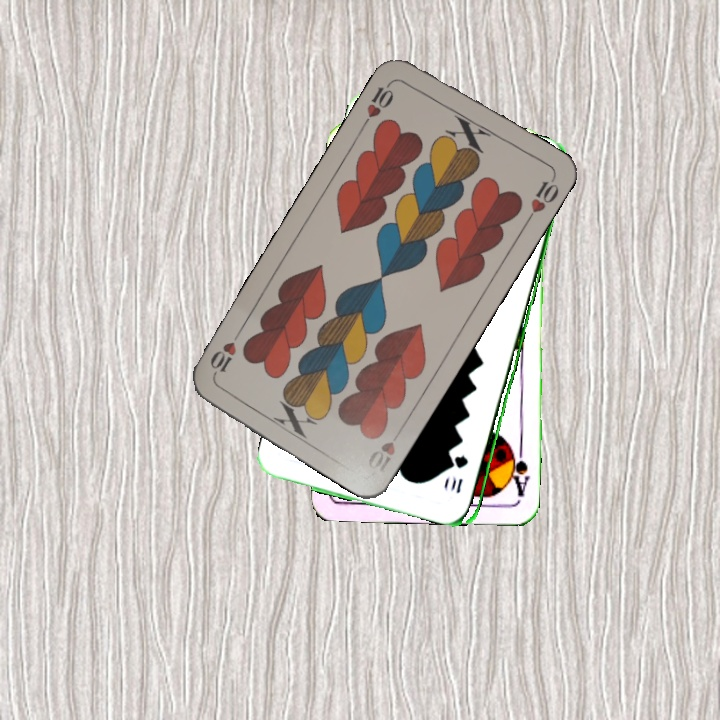G10: (452, 451, 471, 496)
H10: (364, 423, 405, 476), (358, 76, 397, 129)
SA: (505, 443, 532, 503)
